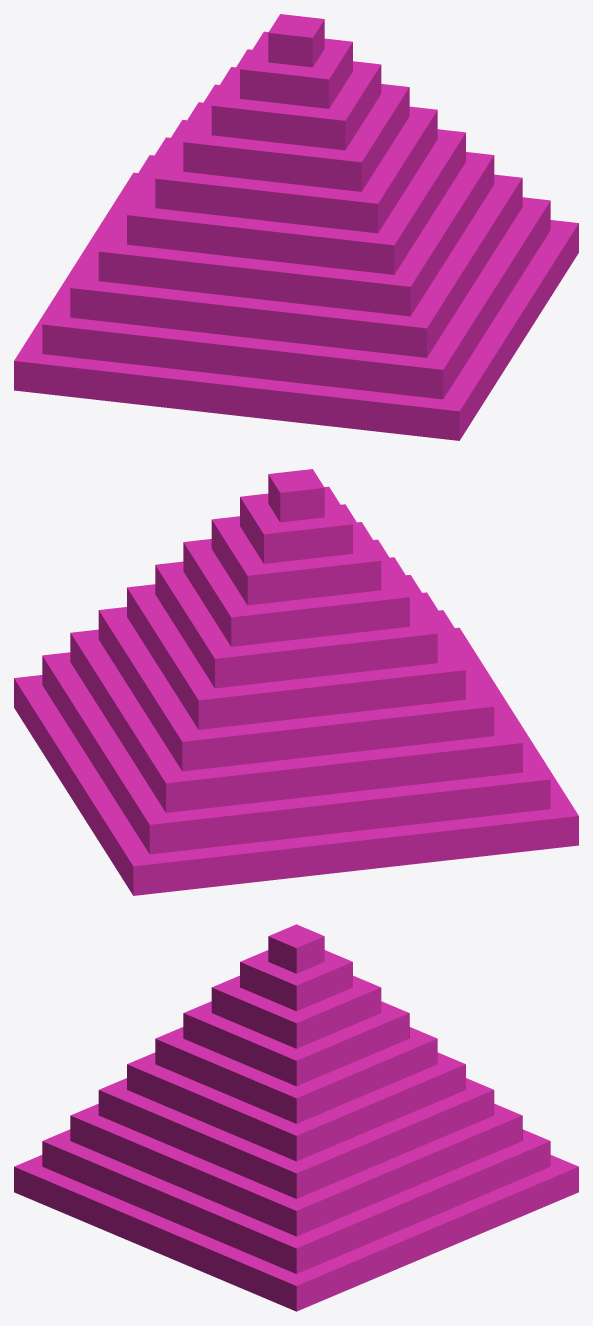
3 renders of one model, top to bottom at view 1: azimuth 30°, elevation 25°; view 2: azimuth 150°, elevation 25°; view 3: azimuth 270°, elevation 25°, orthographic. The views are drawn at different scales.
Parts seen in each view (by area): view 1: Pyramid; view 2: Pyramid; view 3: Pyramid.
Part boxes in pixels (<box>): Pyramid: <box>14,14,578,440</box>; Pyramid: <box>14,469,578,895</box>; Pyramid: <box>14,924,578,1311</box>.
Bounding box in the file's own units: 2 × 1 × 2.
